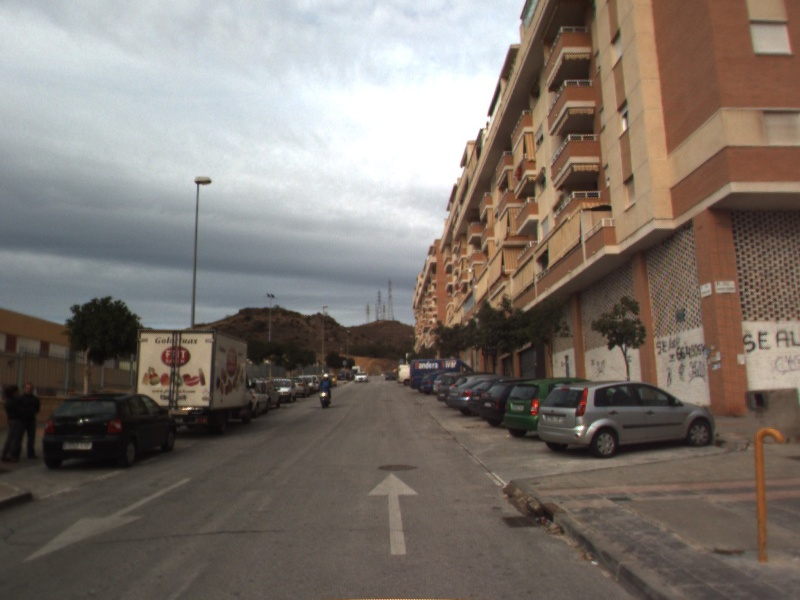STRAIGHT: (364, 470, 422, 557)
